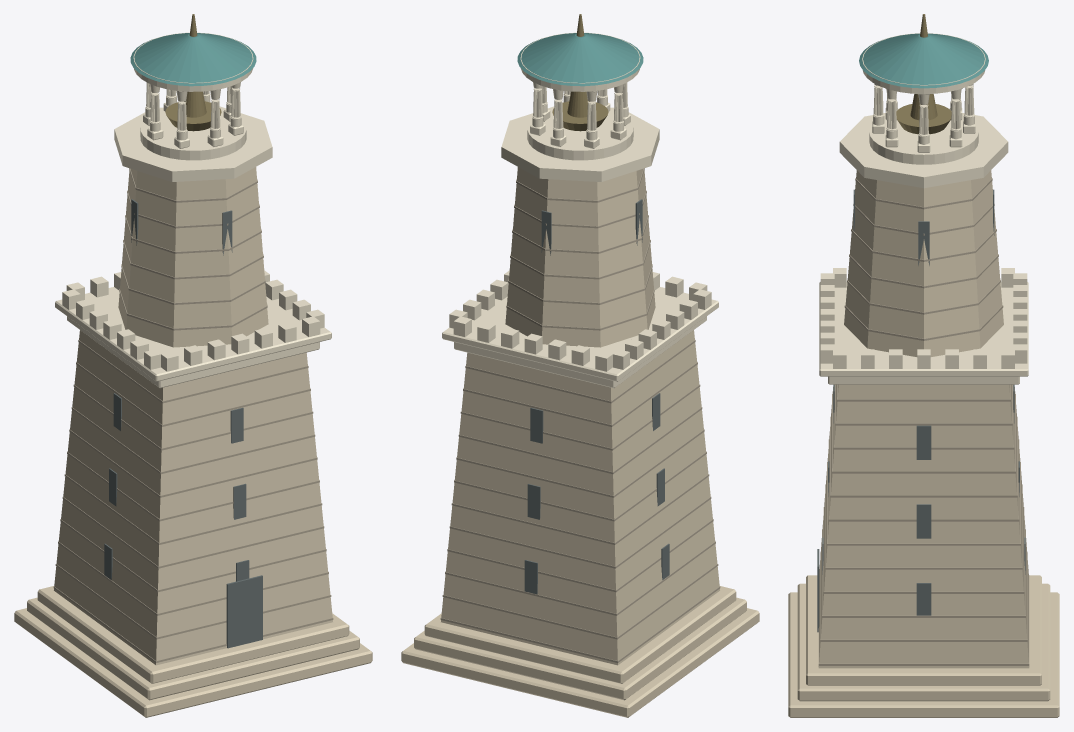
The model's file is lighthouse.glb.
3 views of the same model, side by side, from view 1: azimuth 30°, elevation 25°; view 2: azimuth 150°, elevation 25°; view 3: azimuth 270°, elevation 25° (orthographic). The views are drawn at different scales.
Parts seen in each view (by area): view 1: PharosInspiredLighthouse_Interpretation / warm limestone, PharosInspiredLighthouse_Interpretation / cream marble, PharosInspiredLighthouse_Interpretation / stone shadow, PharosInspiredLighthouse_Interpretation / aged turquoise, PharosInspiredLighthouse_Interpretation / recess, PharosInspiredLighthouse_Interpretation / bronze; view 2: PharosInspiredLighthouse_Interpretation / warm limestone, PharosInspiredLighthouse_Interpretation / cream marble, PharosInspiredLighthouse_Interpretation / stone shadow, PharosInspiredLighthouse_Interpretation / aged turquoise, PharosInspiredLighthouse_Interpretation / recess, PharosInspiredLighthouse_Interpretation / bronze; view 3: PharosInspiredLighthouse_Interpretation / warm limestone, PharosInspiredLighthouse_Interpretation / cream marble, PharosInspiredLighthouse_Interpretation / stone shadow, PharosInspiredLighthouse_Interpretation / aged turquoise, PharosInspiredLighthouse_Interpretation / recess, PharosInspiredLighthouse_Interpretation / bronze.
Boxes of the visible parts, bbox=[...] form: PharosInspiredLighthouse_Interpretation / warm limestone: bbox=[14, 167, 372, 717]; PharosInspiredLighthouse_Interpretation / cream marble: bbox=[55, 32, 331, 388]; PharosInspiredLighthouse_Interpretation / stone shadow: bbox=[53, 168, 333, 662]; PharosInspiredLighthouse_Interpretation / aged turquoise: bbox=[130, 33, 256, 86]; PharosInspiredLighthouse_Interpretation / recess: bbox=[104, 199, 262, 648]; PharosInspiredLighthouse_Interpretation / bronze: bbox=[165, 14, 221, 131]; PharosInspiredLighthouse_Interpretation / warm limestone: bbox=[401, 167, 759, 717]; PharosInspiredLighthouse_Interpretation / cream marble: bbox=[442, 32, 718, 388]; PharosInspiredLighthouse_Interpretation / stone shadow: bbox=[440, 168, 720, 662]; PharosInspiredLighthouse_Interpretation / aged turquoise: bbox=[517, 33, 643, 86]; PharosInspiredLighthouse_Interpretation / recess: bbox=[524, 199, 669, 594]; PharosInspiredLighthouse_Interpretation / bronze: bbox=[552, 14, 608, 131]; PharosInspiredLighthouse_Interpretation / warm limestone: bbox=[788, 170, 1059, 717]; PharosInspiredLighthouse_Interpretation / cream marble: bbox=[819, 33, 1028, 384]; PharosInspiredLighthouse_Interpretation / stone shadow: bbox=[818, 178, 1029, 665]; PharosInspiredLighthouse_Interpretation / aged turquoise: bbox=[859, 33, 988, 88]; PharosInspiredLighthouse_Interpretation / recess: bbox=[817, 189, 1025, 632]; PharosInspiredLighthouse_Interpretation / bronze: bbox=[896, 14, 951, 134].
Bounding box in the file's own units: 5.8 × 15.26 × 5.8.
